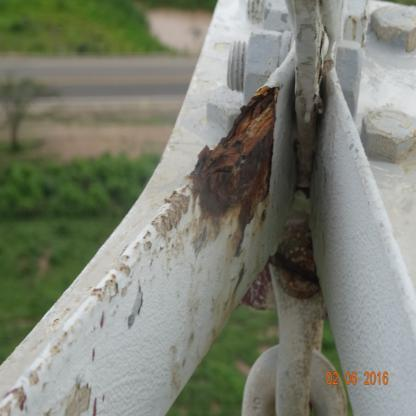Grado3: (191, 92, 277, 206)
